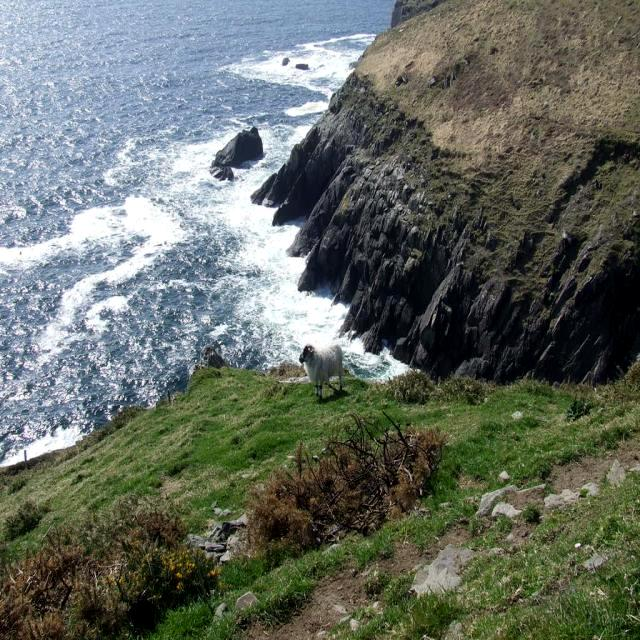sheep: (298, 345, 342, 395)
